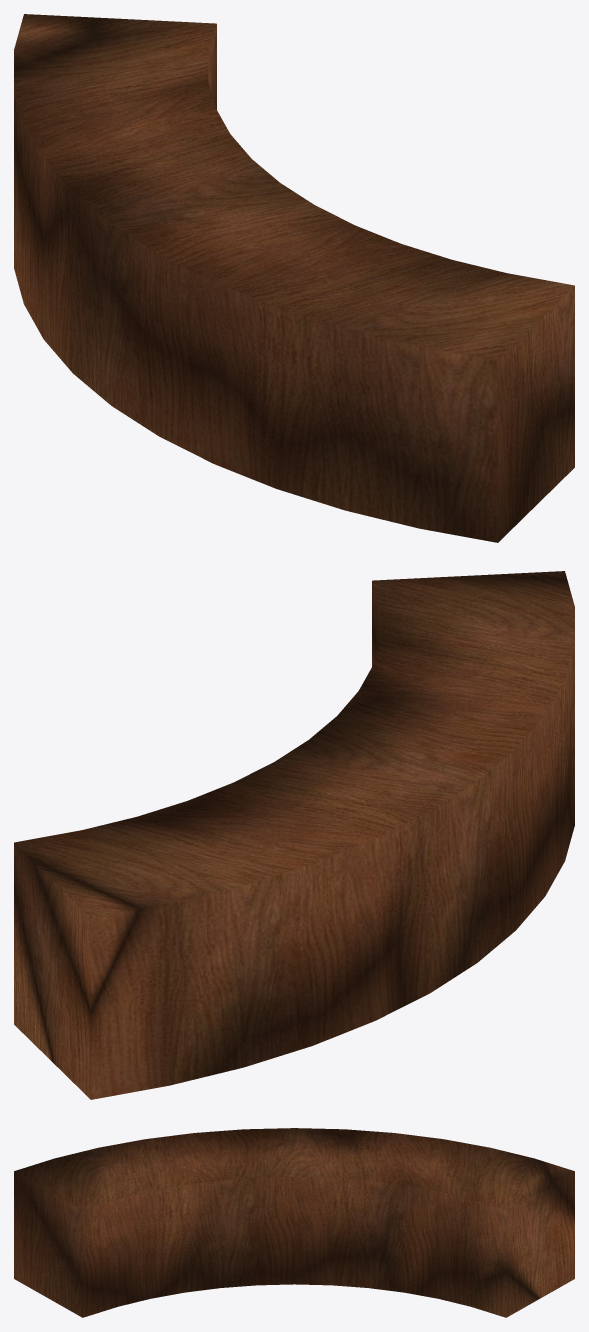
File: top.obj
3 renders of one model, top to bottom at view 1: azimuth 30°, elevation 25°; view 2: azimuth 150°, elevation 25°; view 3: azimuth 270°, elevation 25°, orthographic. The views are drawn at different scales.
Visible parts, largest first — view 1: top_mesh14_mesh14-geometry; view 2: top_mesh14_mesh14-geometry; view 3: top_mesh14_mesh14-geometry.
Part boxes in pixels (x1,y1,x2,y2): top_mesh14_mesh14-geometry: [14, 14, 574, 542]; top_mesh14_mesh14-geometry: [14, 571, 574, 1099]; top_mesh14_mesh14-geometry: [14, 1128, 574, 1317].
Bounding box in the file's own units: 0.1249 × 0.0764 × 0.3605.
